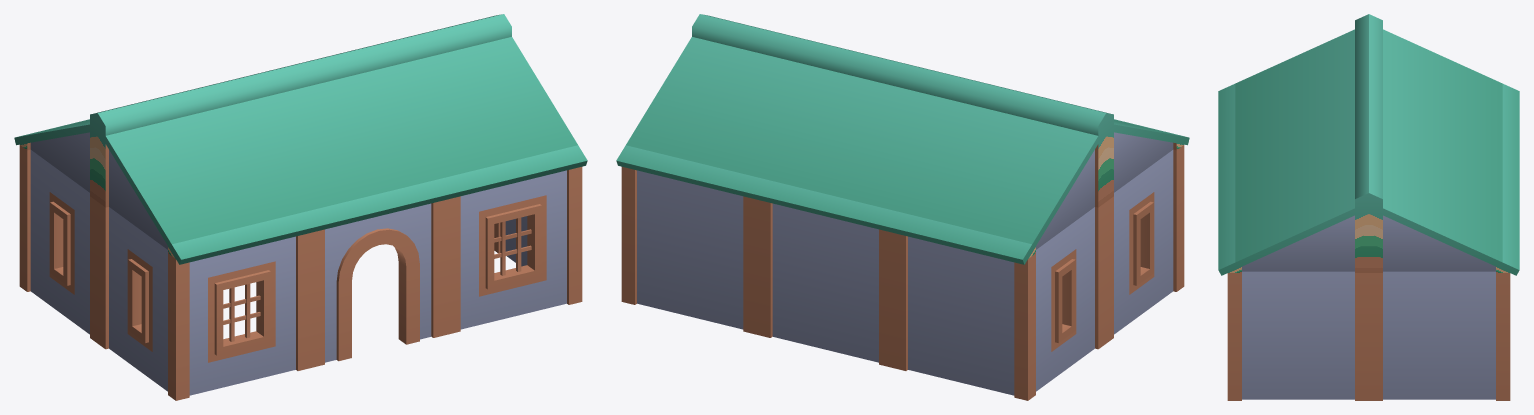
Rendered from house-cottage.glb.
3 renders of one model, left to right at view 1: azimuth 30°, elevation 25°; view 2: azimuth 150°, elevation 25°; view 3: azimuth 270°, elevation 25°, orthographic. The views are drawn at different scales.
Parts seen in each view (by area): view 1: house-cottage; view 2: house-cottage; view 3: house-cottage.
Part boxes in pixels (<box>): house-cottage: <box>14,14,587,400</box>; house-cottage: <box>616,14,1189,400</box>; house-cottage: <box>1218,14,1519,400</box>.
Bounding box in the file's own units: 3 × 1.63 × 2.13.
Materials: 5 (5 with a texture image).
